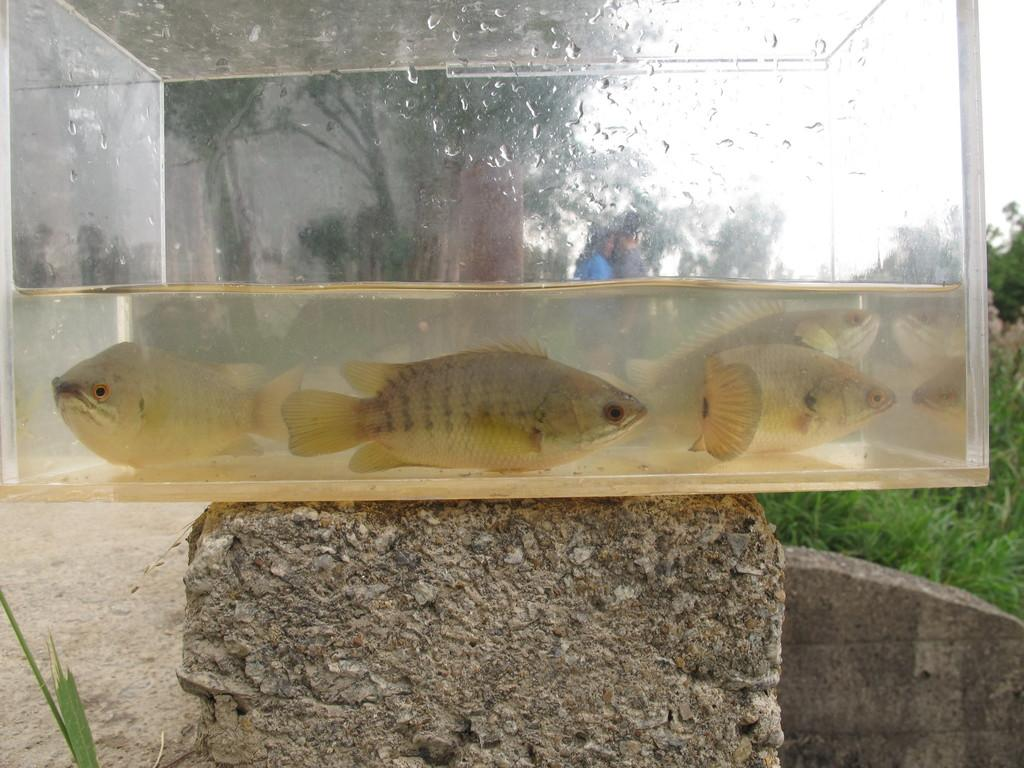Climbing Perch: (287, 342, 644, 488), (51, 322, 273, 474), (697, 324, 900, 462)
